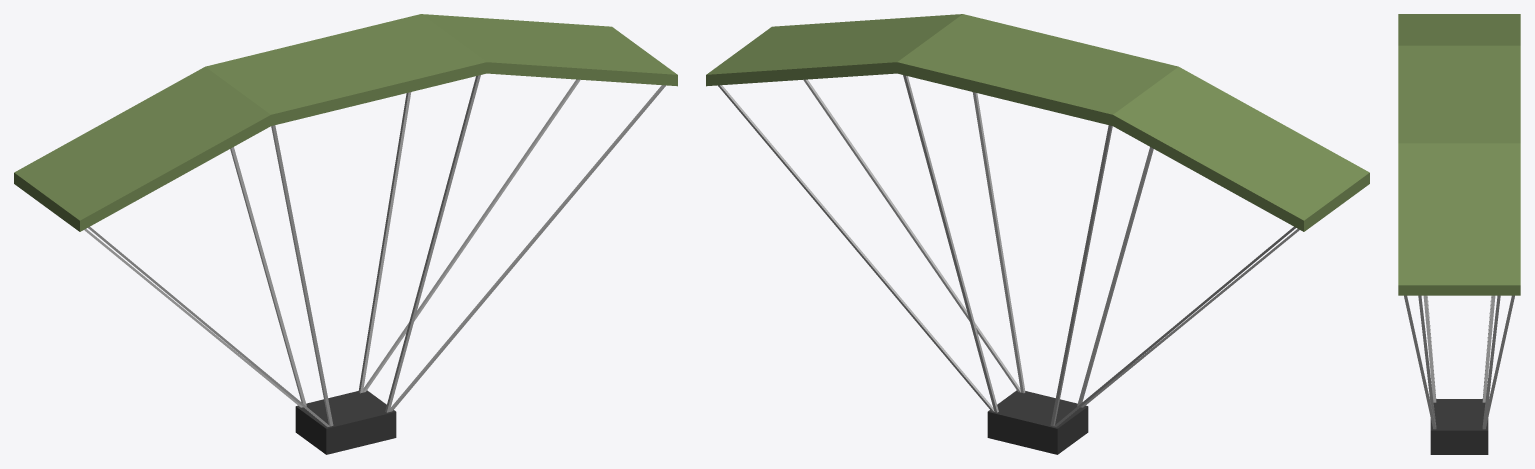
Rendered from parachute.fbx.
3 renders of one model, left to right at view 1: azimuth 30°, elevation 25°; view 2: azimuth 150°, elevation 25°; view 3: azimuth 270°, elevation 25°, orthographic. The views are drawn at different scales.
Parts seen in each view (by area): view 1: parachute; view 2: parachute; view 3: parachute.
Boxes of the visible parts, x1,y1,x2,y2 form: parachute: (14,14,677,454); parachute: (706,14,1369,454); parachute: (1398,14,1520,454).
Size of the model in its own units: 914 by 542 by 174.
